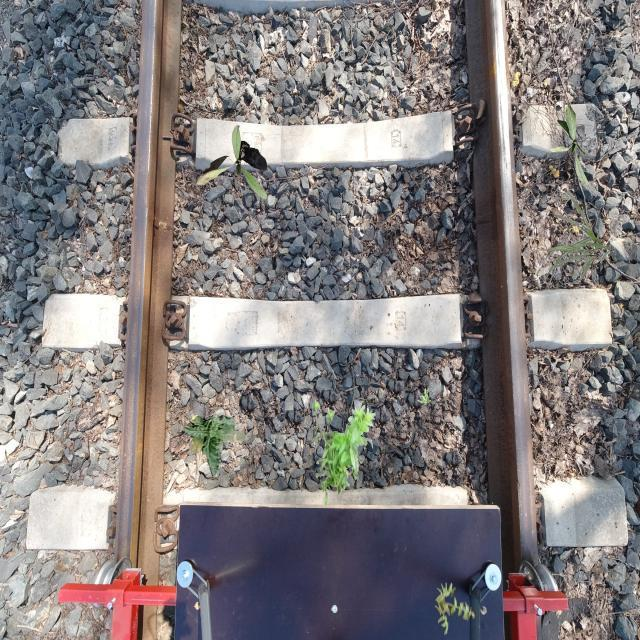Plant: (311, 399, 376, 506), (539, 191, 612, 284), (196, 125, 268, 200), (183, 415, 247, 477), (550, 105, 590, 188), (434, 582, 476, 636), (418, 388, 432, 404)
